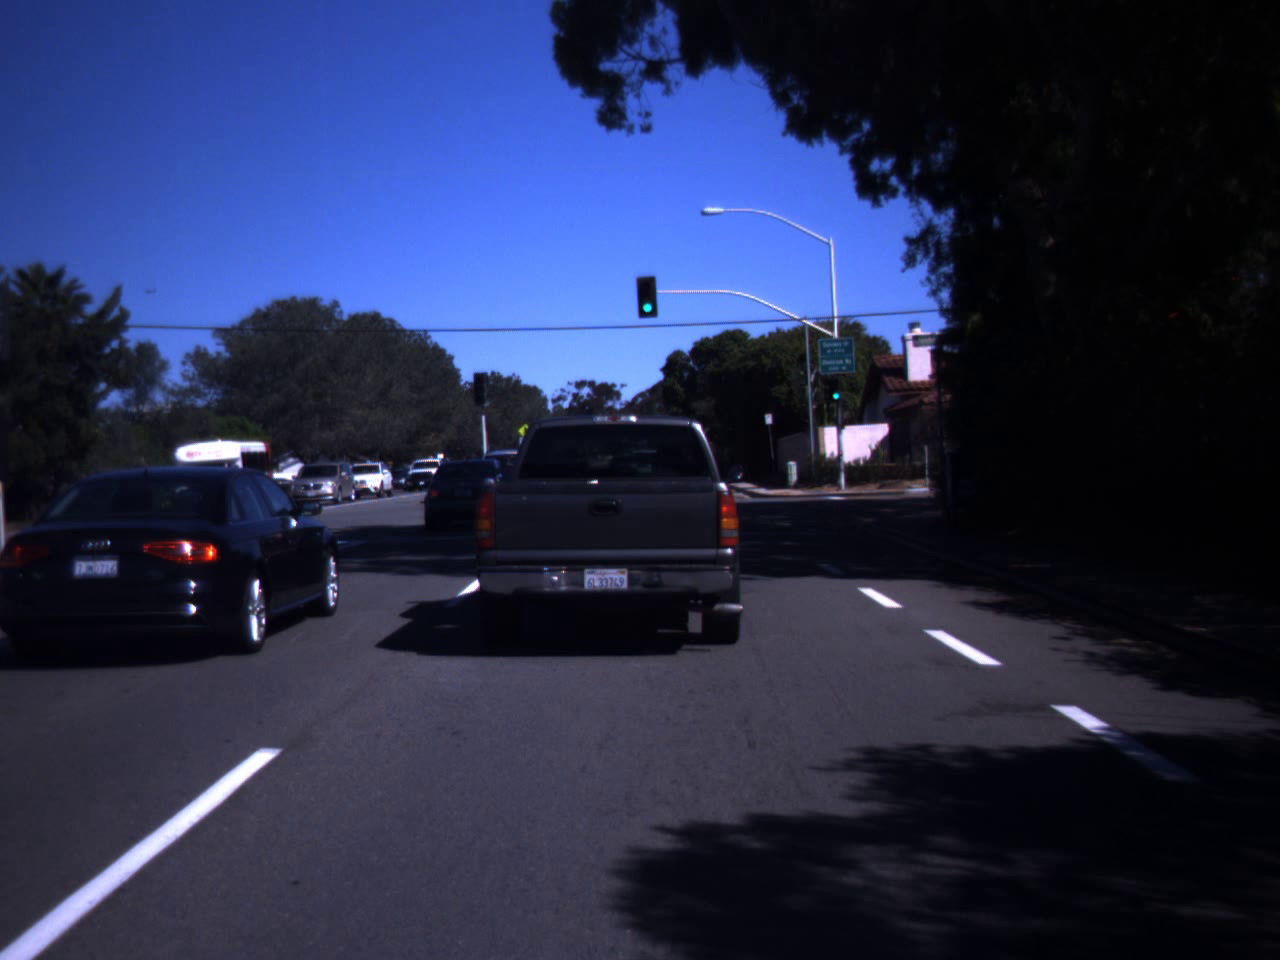go: (637, 276, 658, 316), (830, 380, 842, 400)
